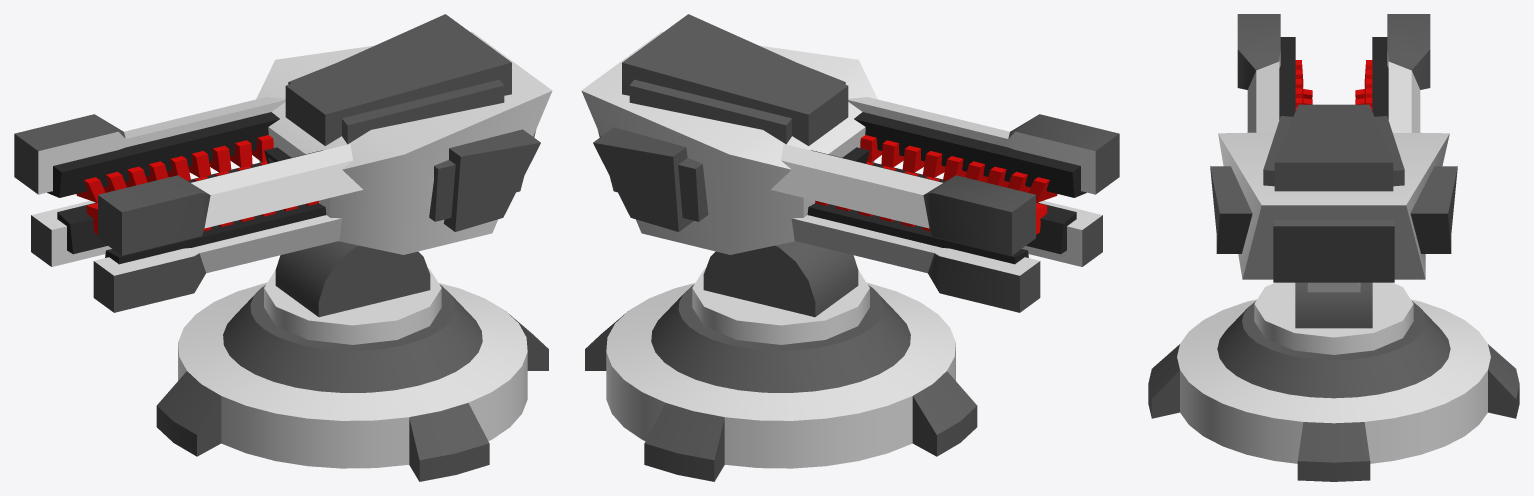
Rendered from Laser Gun.fbx.
3 renders of one model, left to right at view 1: azimuth 30°, elevation 25°; view 2: azimuth 150°, elevation 25°; view 3: azimuth 270°, elevation 25°, orthographic. The views are drawn at different scales.
Parts seen in each view (by area): view 1: Laser Turret Head, Turret Base; view 2: Laser Turret Head, Turret Base; view 3: Laser Turret Head, Turret Base.
Boxes of the visible parts, <box> form: Laser Turret Head: <box>14,14,552,344</box>; Turret Base: <box>156,282,548,481</box>; Laser Turret Head: <box>581,14,1119,344</box>; Turret Base: <box>585,282,977,481</box>; Laser Turret Head: <box>1210,14,1457,354</box>; Turret Base: <box>1148,299,1519,481</box>.
Size of the model in its own units: 237 by 208 by 306.
